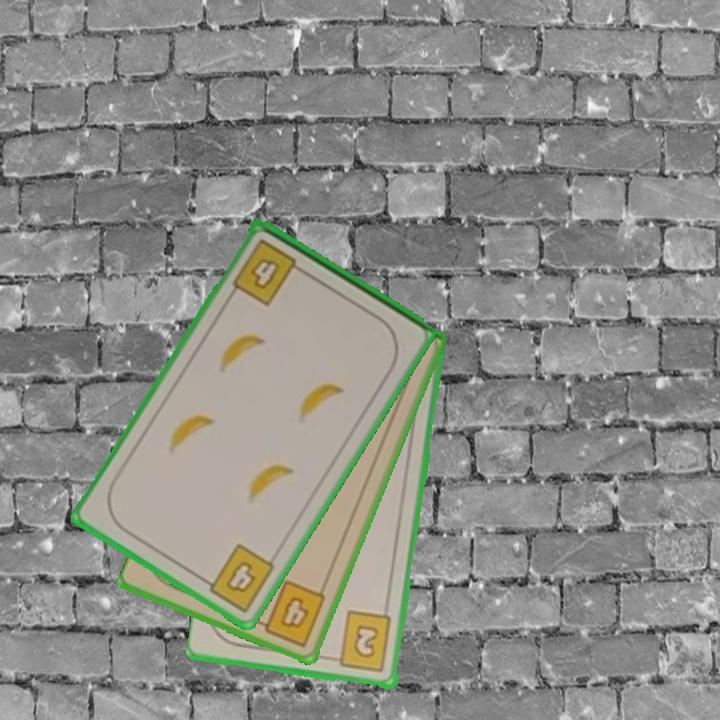2b: (327, 608, 395, 675)
4b: (197, 540, 278, 616), (229, 235, 309, 309), (252, 576, 329, 650)
